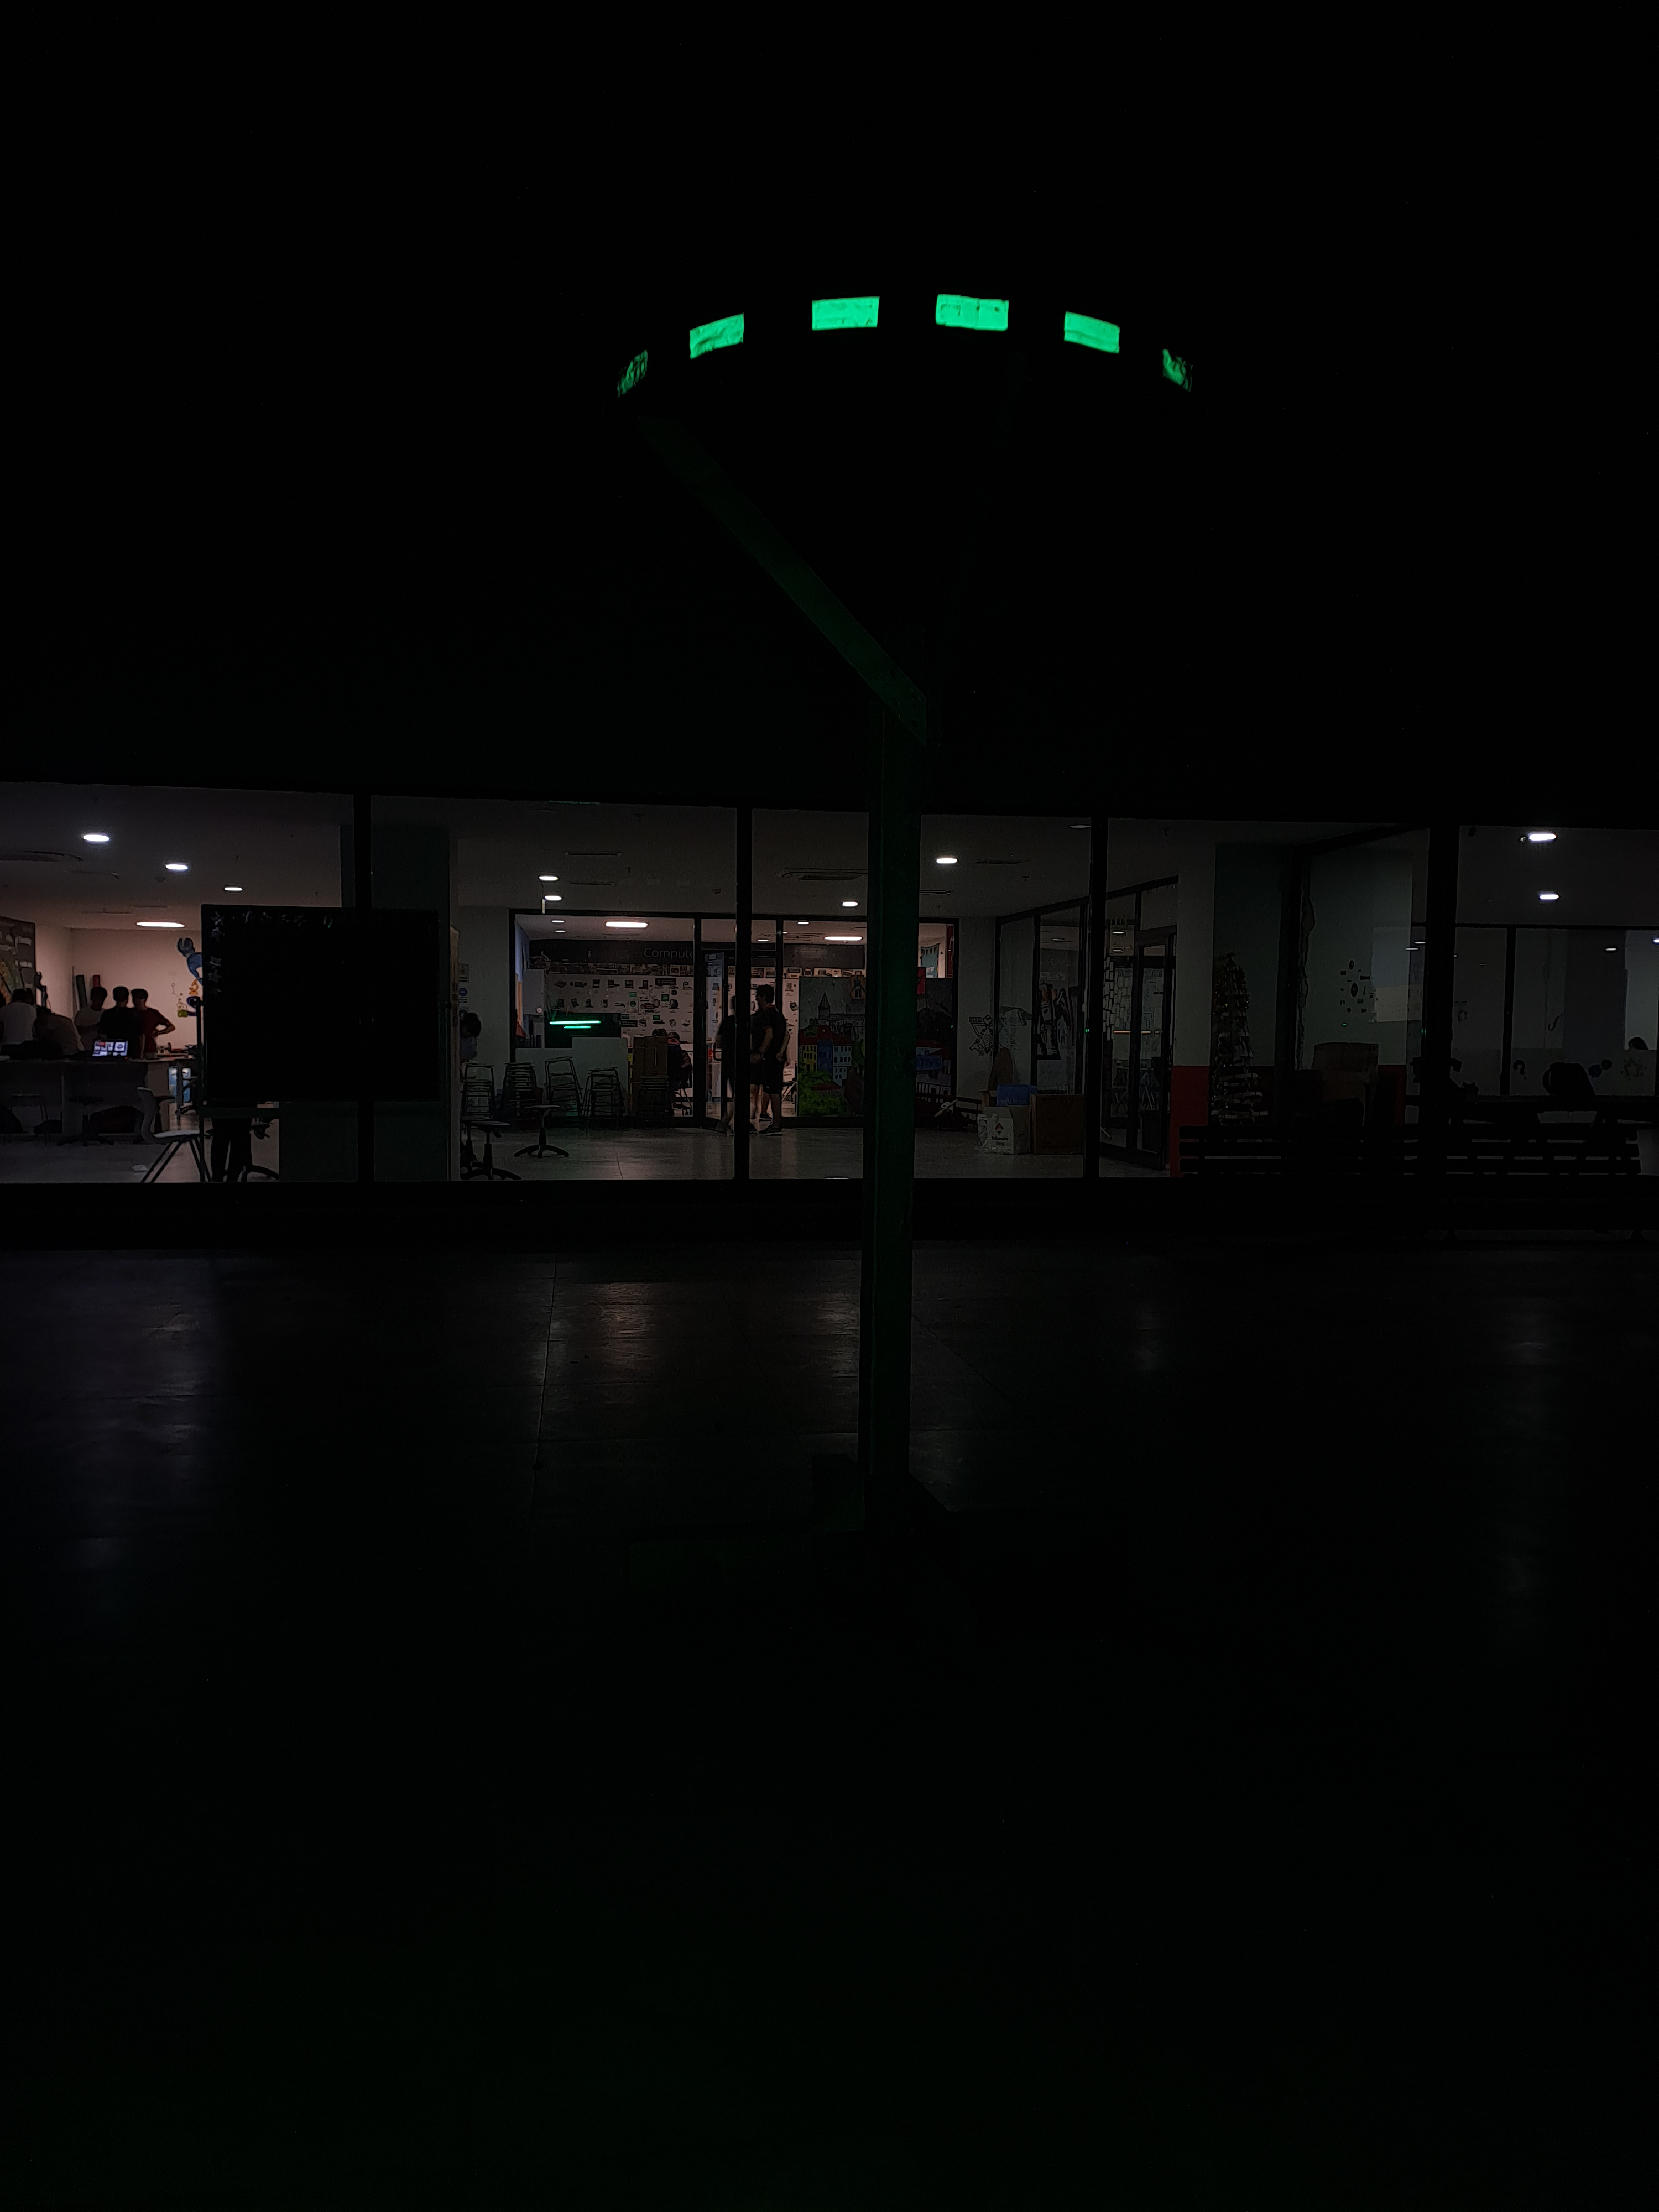hoop: (613, 286, 1201, 397)
